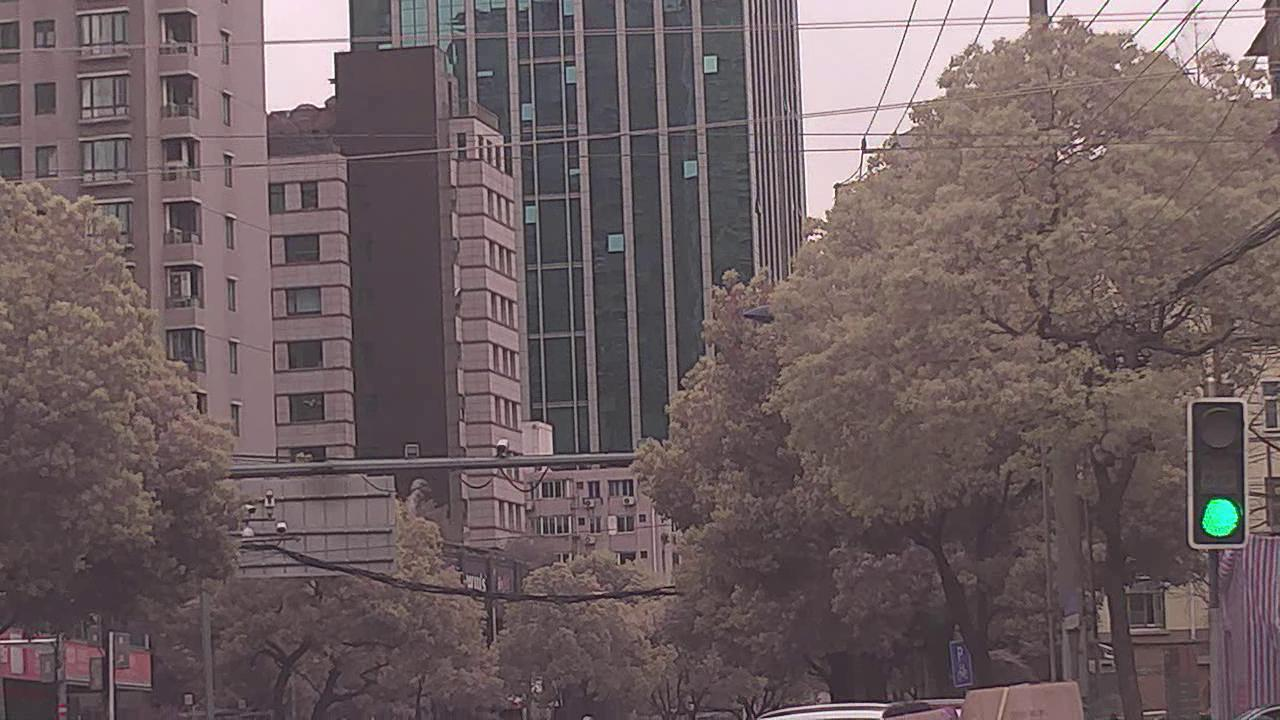traffic_light: (1191, 397, 1244, 540)
